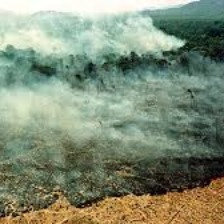incendio: (1, 7, 187, 143)
